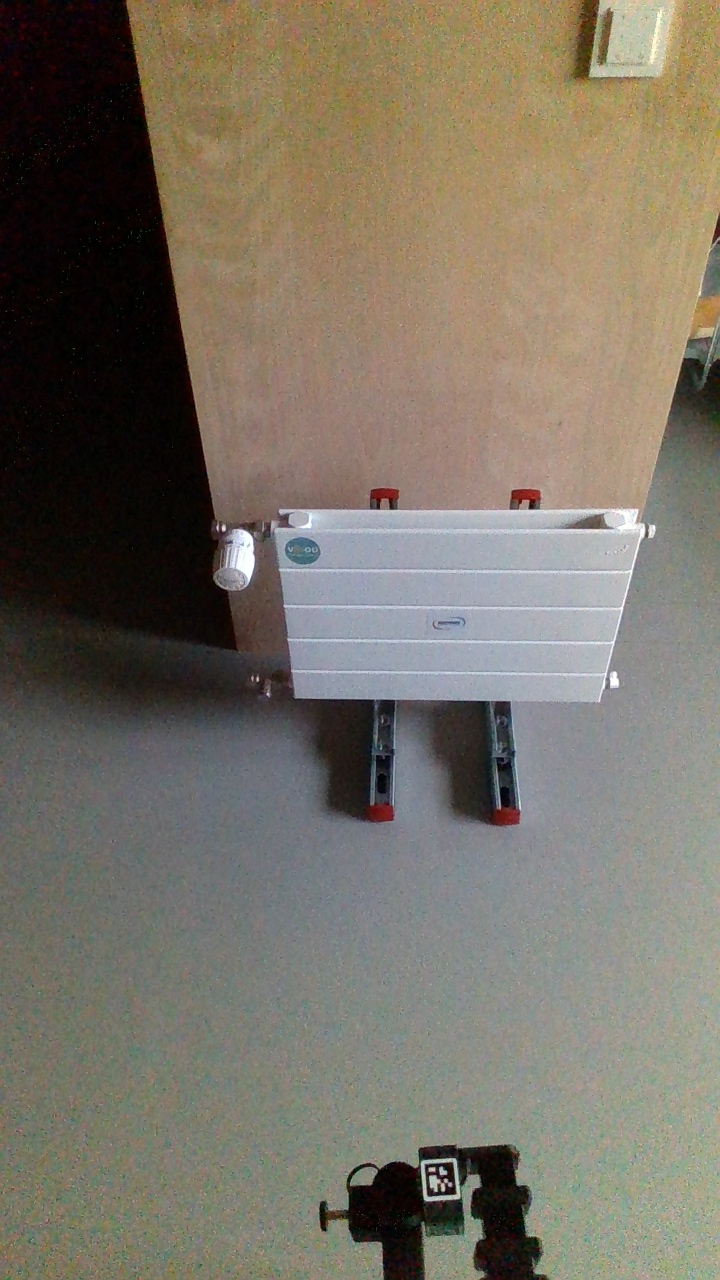Knob_Radiator: (208, 523, 259, 596)
Light_Switch: (591, 2, 666, 76)
Radiator: (268, 501, 638, 710)
